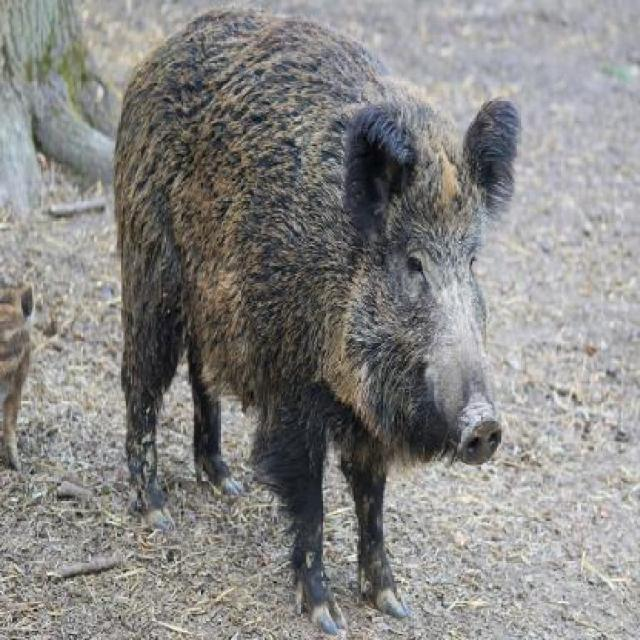wildboar: (109, 0, 531, 640), (0, 275, 43, 482)
